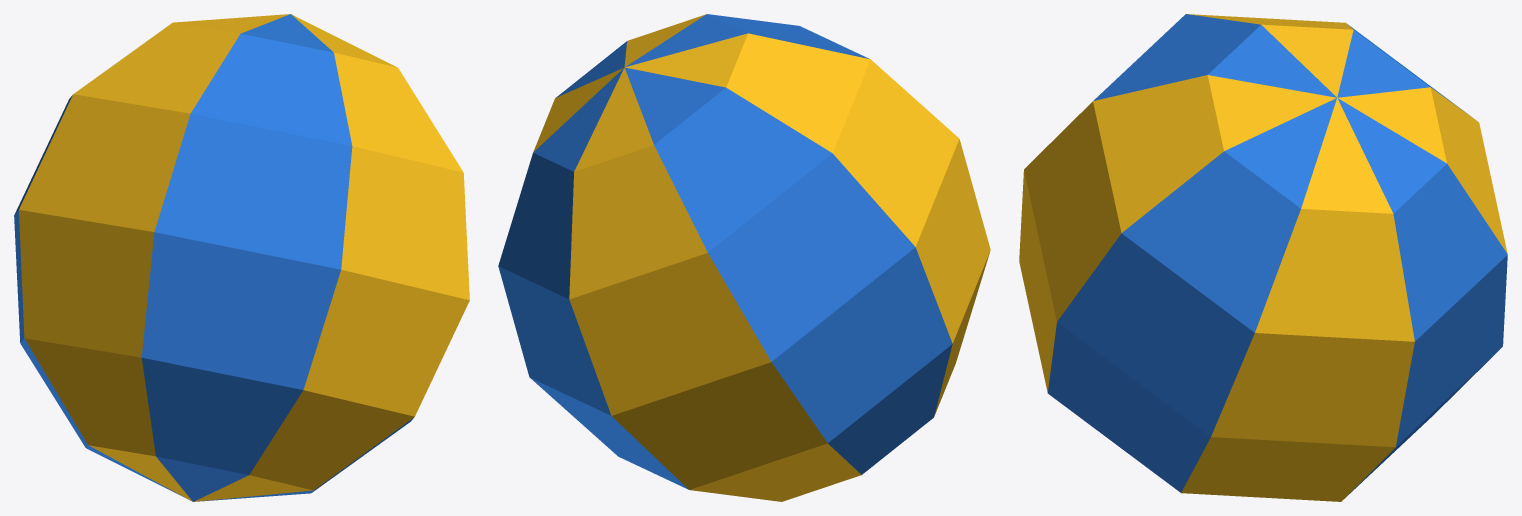
File: Ball.fbx
3 renders of one model, left to right at view 1: azimuth 30°, elevation 25°; view 2: azimuth 150°, elevation 25°; view 3: azimuth 270°, elevation 25°, orthographic. The views are drawn at different scales.
Parts seen in each view (by area): view 1: Ball; view 2: Ball; view 3: Ball.
Boxes of the visible parts, x1,y1,x2,y2 form: Ball: (14, 14, 469, 501); Ball: (498, 14, 990, 501); Ball: (1019, 14, 1507, 501).
Size of the model in its own units: 0.586 by 0.592 by 0.5649.
